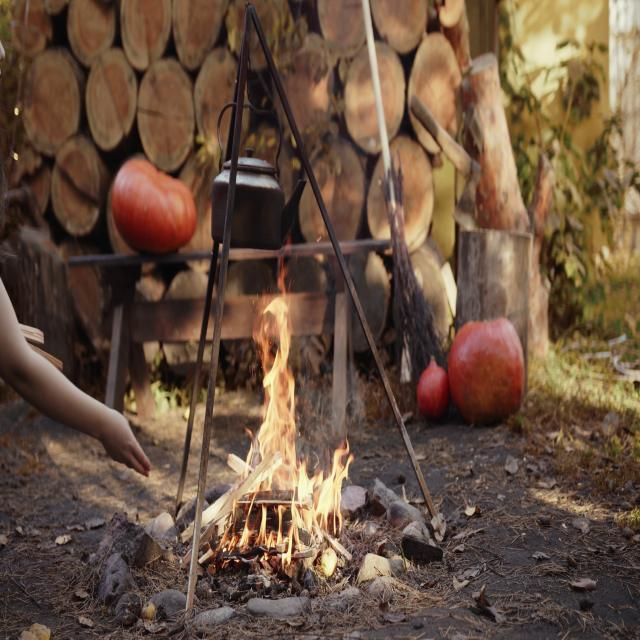Fire: (213, 270, 357, 578)
